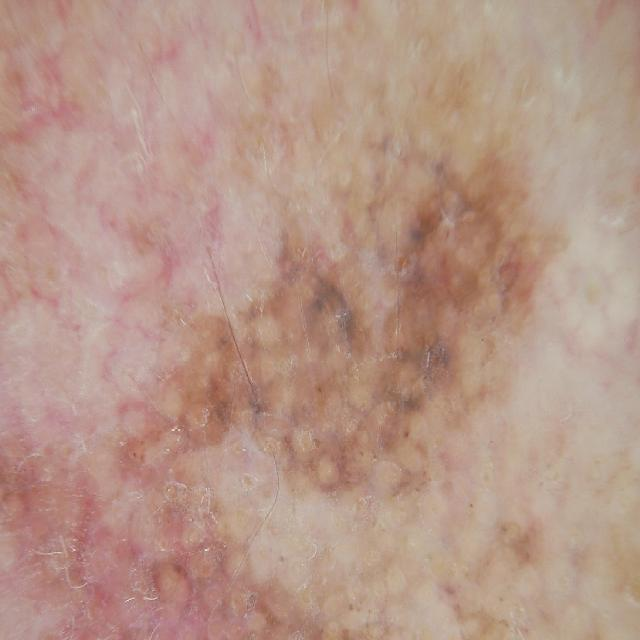Melanoma: (55, 127, 640, 635)
